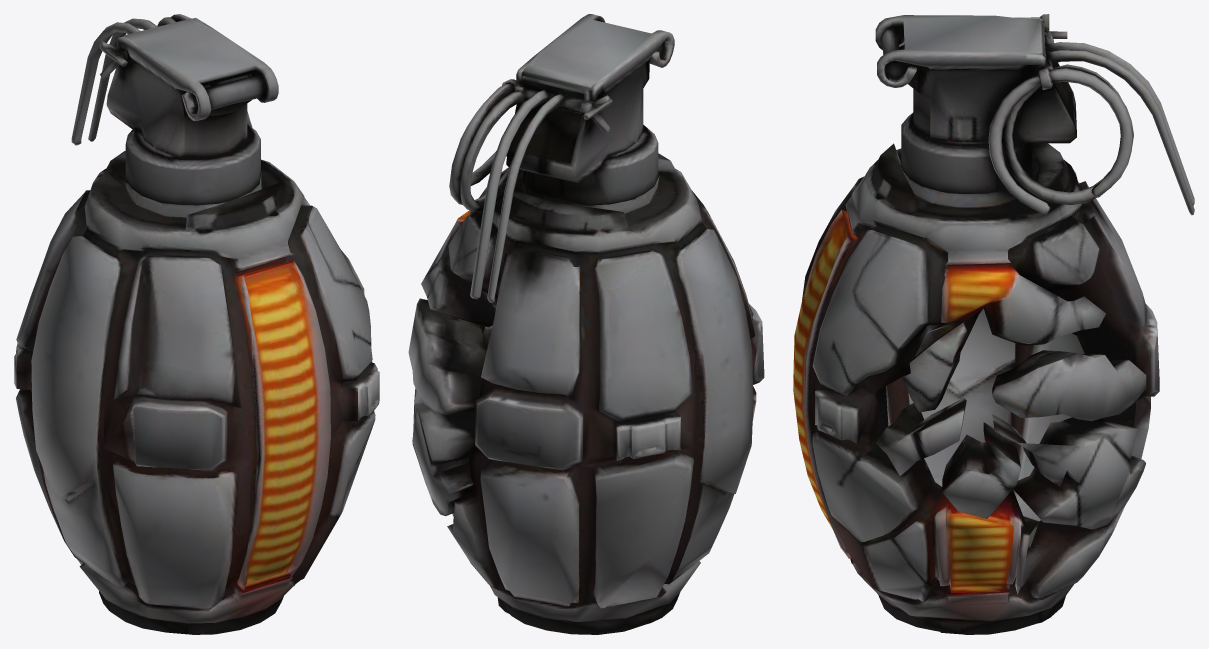
The model's file is weapon-grenade-frag-v1.glb.
3 views of the same model, side by side, from view 1: azimuth 30°, elevation 25°; view 2: azimuth 150°, elevation 25°; view 3: azimuth 270°, elevation 25° (orthographic). The views are drawn at different scales.
Visible parts, largest first — view 1: weapon-grenade-frag-v1; view 2: weapon-grenade-frag-v1; view 3: weapon-grenade-frag-v1.
Boxes of the visible parts, left/top/right/bottom form: weapon-grenade-frag-v1: left=14, top=14, right=379, bottom=634; weapon-grenade-frag-v1: left=408, top=14, right=764, bottom=634; weapon-grenade-frag-v1: left=793, top=14, right=1194, bottom=634.
Bounding box in the file's own units: 0.0803 × 0.14 × 0.0907.
Materials: 1 (1 with a texture image).
